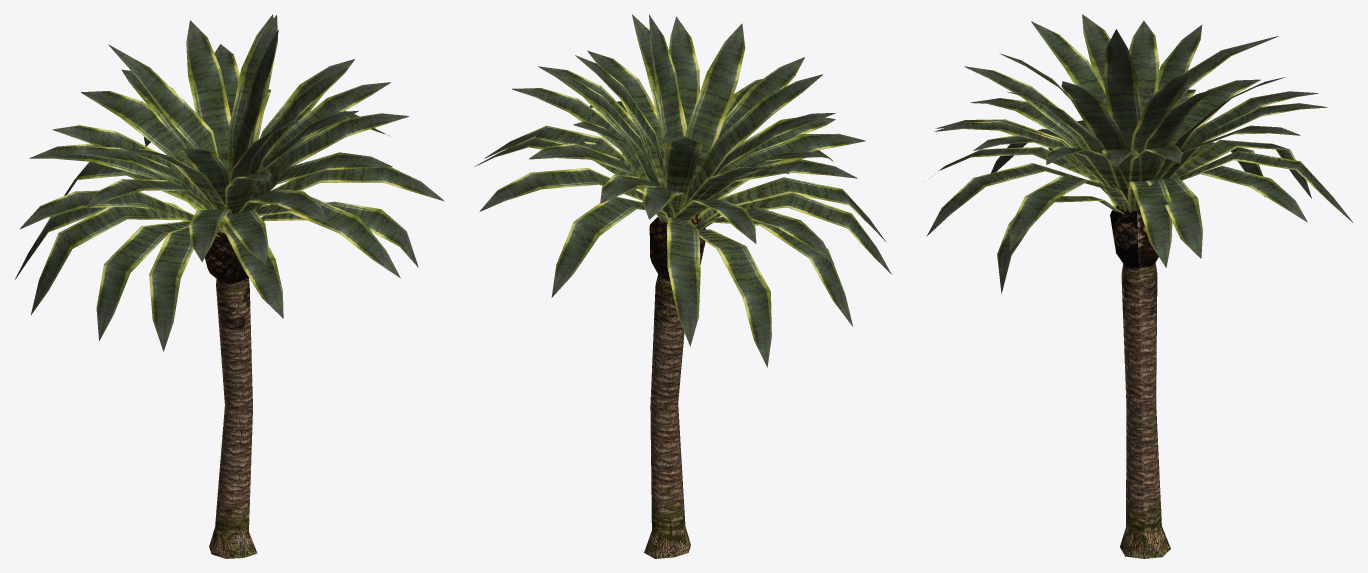
Rendered from Palm.FBX.
3 views of the same model, side by side, from view 1: azimuth 30°, elevation 25°; view 2: azimuth 150°, elevation 25°; view 3: azimuth 270°, elevation 25° (orthographic). The views are drawn at different scales.
Visible parts, largest first — view 1: Palm_Iraq; view 2: Palm_Iraq; view 3: Palm_Iraq.
Boxes of the visible parts, bbox=[...] form: Palm_Iraq: bbox=[15, 14, 443, 558]; Palm_Iraq: bbox=[474, 14, 891, 558]; Palm_Iraq: bbox=[926, 14, 1352, 558].
Bounding box in the file's own units: 8.18 × 11.06 × 8.09.
